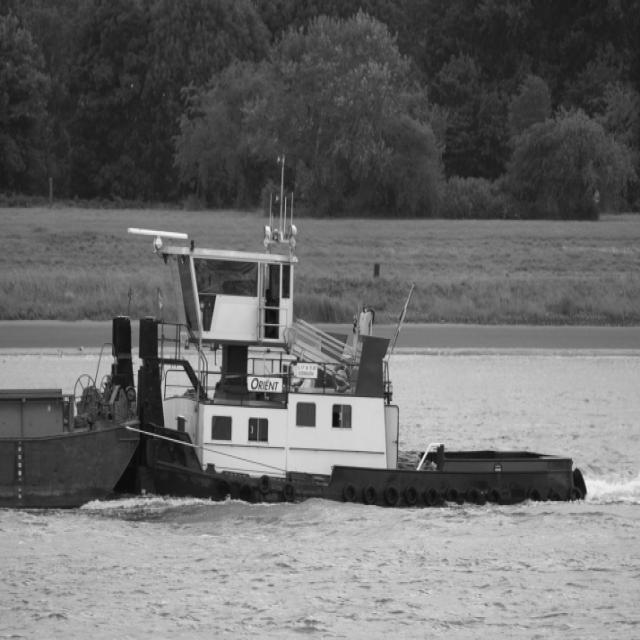tugboat: (108, 213, 594, 522)
